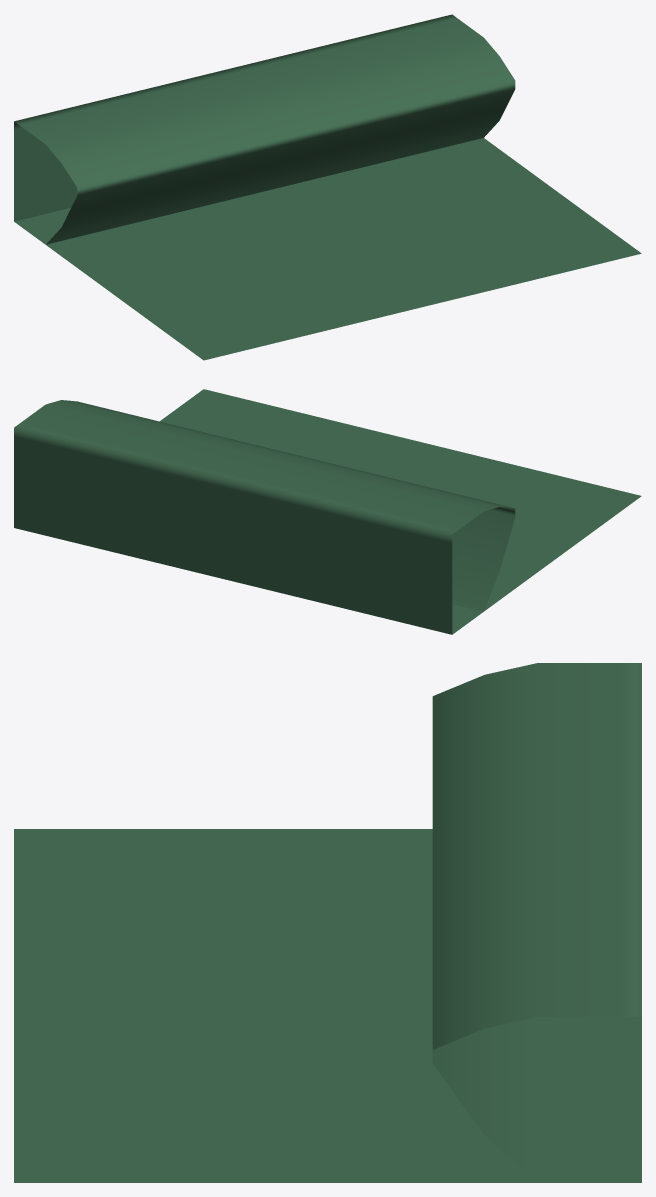
The model's file is table_cushion_straight_e.fbx.
3 views of the same model, one above another, from view 1: azimuth 30°, elevation 25°; view 2: azimuth 150°, elevation 25°; view 3: azimuth 270°, elevation 25° (orthographic). The views are drawn at different scales.
Parts seen in each view (by area): view 1: lod0; view 2: lod0; view 3: lod0.
Boxes of the visible parts, left/top/right/bottom form: lod0: left=14, top=14, right=641, bottom=360; lod0: left=14, top=389, right=641, bottom=634; lod0: left=14, top=663, right=641, bottom=1182.
Size of the model in its own units: 8 by 1.75 by 6.
